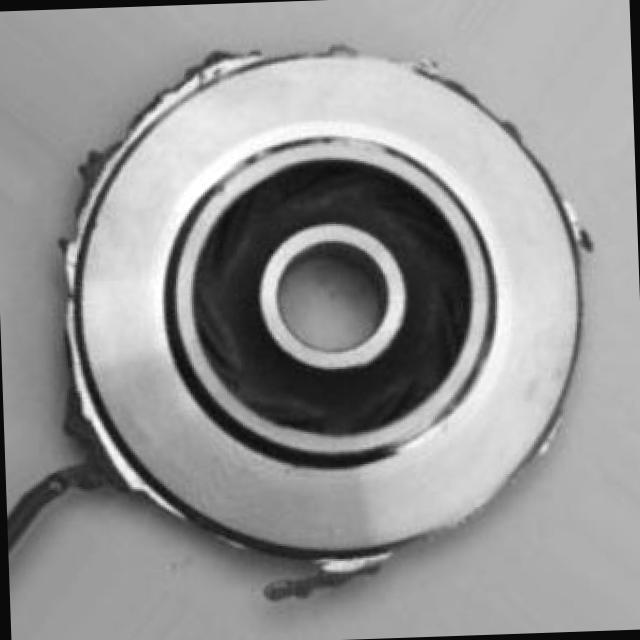Defect: (156, 50, 265, 80)
